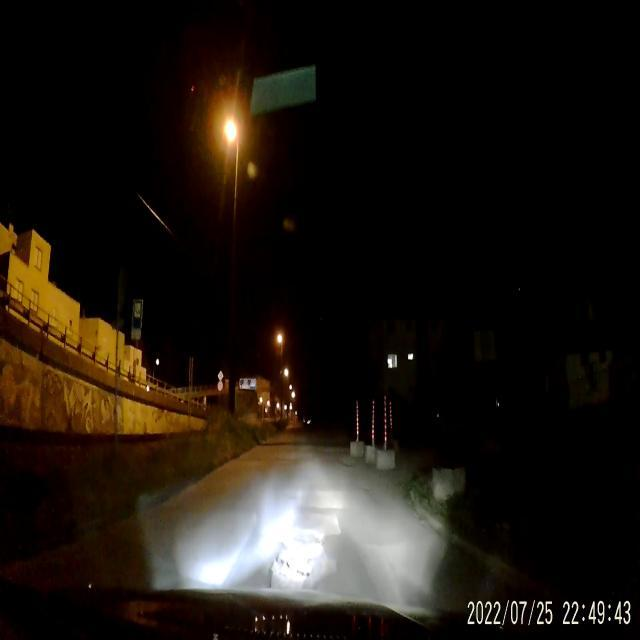Pothole: (268, 548, 332, 589)
